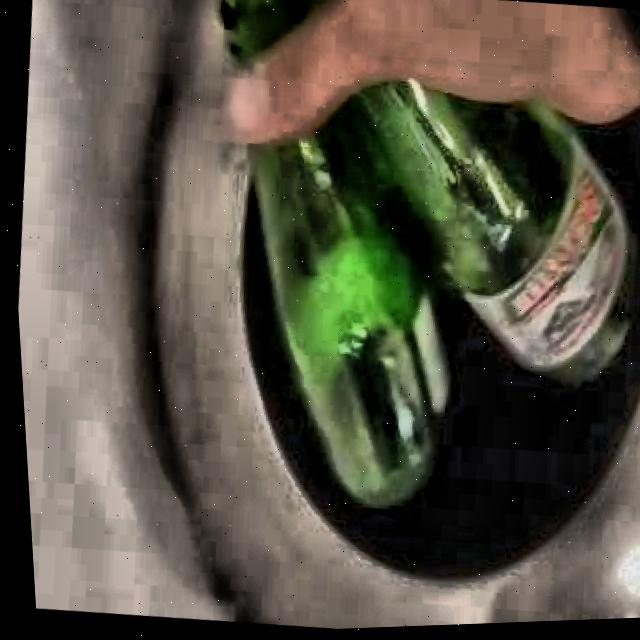glass: (251, 79, 626, 508), (218, 0, 331, 60)
